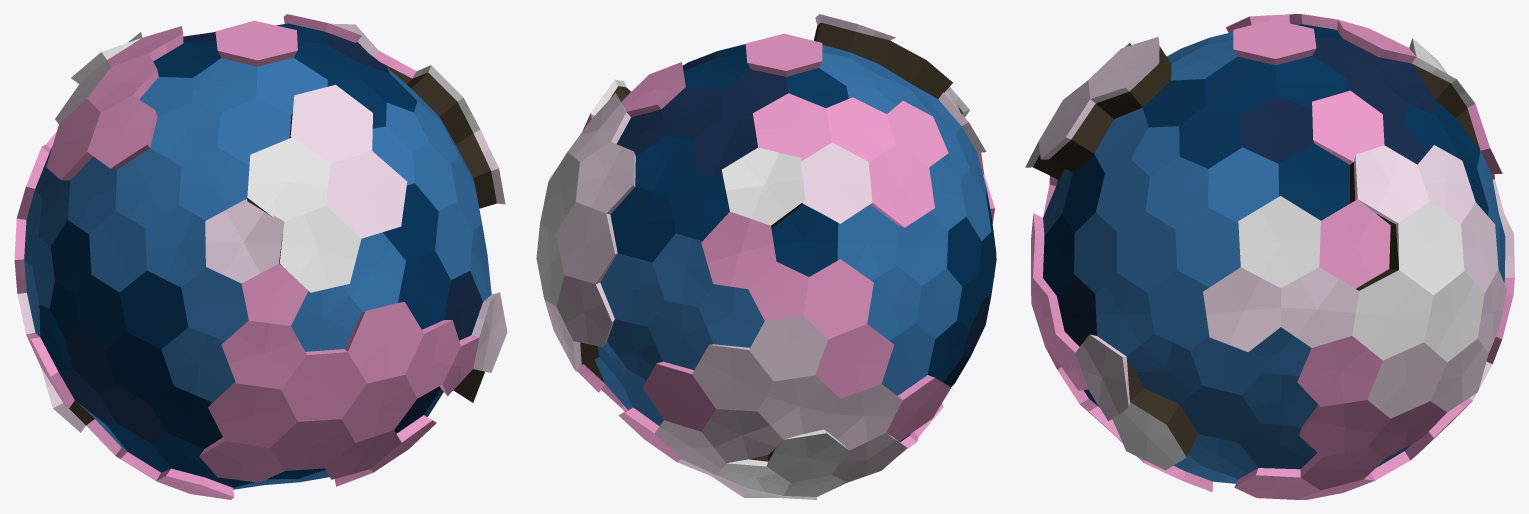
File: planett.gltf
The picture shows the model from 3 angles, left to right: view 1: azimuth 30°, elevation 25°; view 2: azimuth 150°, elevation 25°; view 3: azimuth 270°, elevation 25°; orthographic projection. The views are drawn at different scales.
Visible parts, largest first — view 1: planetbackup.004; view 2: planetbackup.004; view 3: planetbackup.004.
Part boxes in pixels (x1,y1,x2,y2): planetbackup.004: (14,14,507,499); planetbackup.004: (536,14,996,499); planetbackup.004: (1025,14,1514,499).
Bounding box in the file's own units: 6.25 × 6.22 × 6.32.
